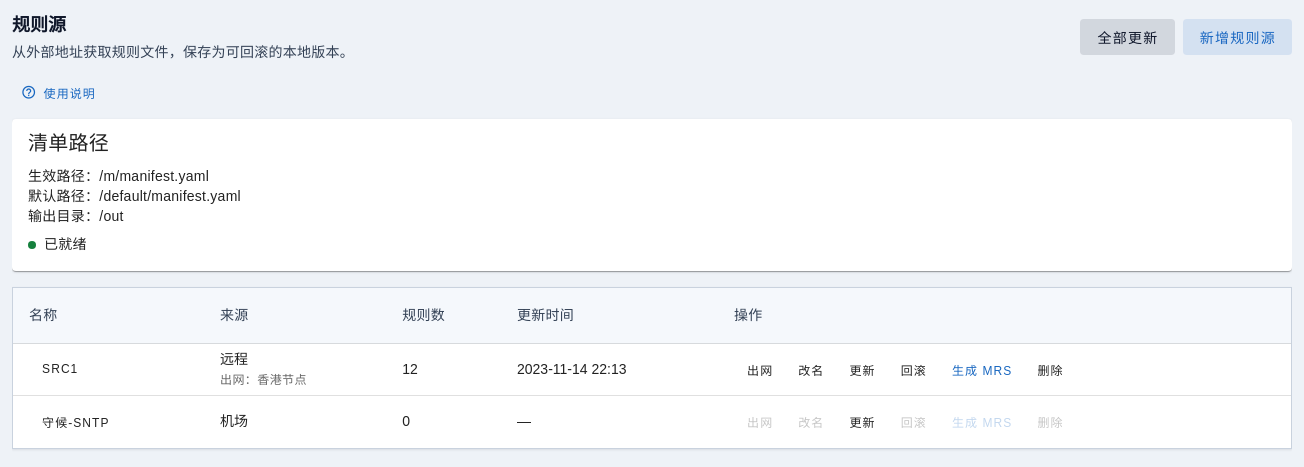
Test case: RuleSourcesPage › 单源更新请求进行中：该行按钮 loading、行内更新/回滚/MRS 全 disabled
Click the button with test id "source-update" in the row of "远程".
click(862, 369)  # box left=836, top=355, right=888, bottom=383
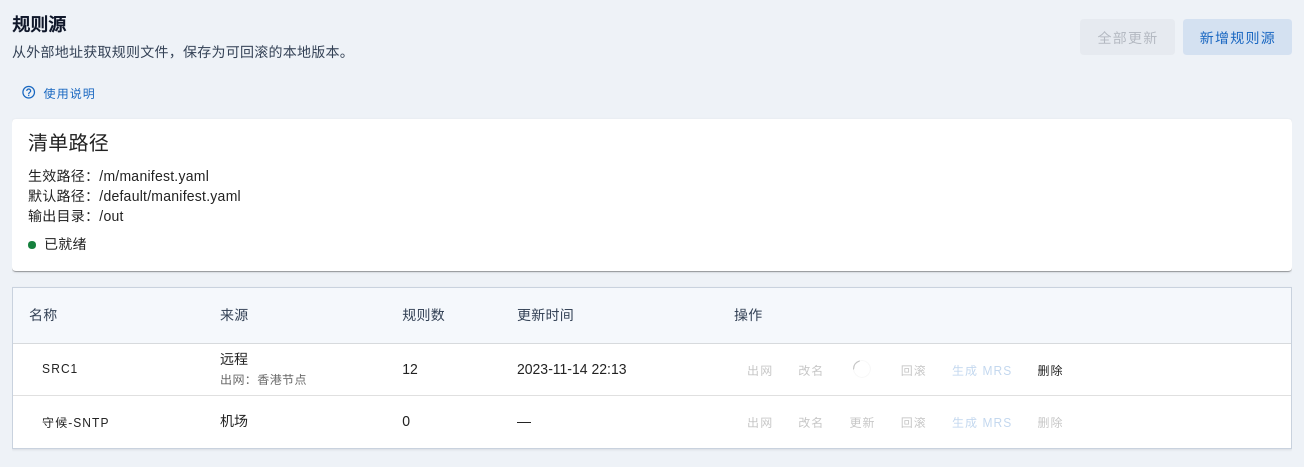
Now the 1st button with test id "source-update" is disabled, box left=836, top=355, right=888, bottom=383
Now the progress indicator is shown, box left=853, top=360, right=871, bottom=378
Now the button with test id "source-rollback" in the row of "远程" is disabled, box left=888, top=355, right=939, bottom=383
